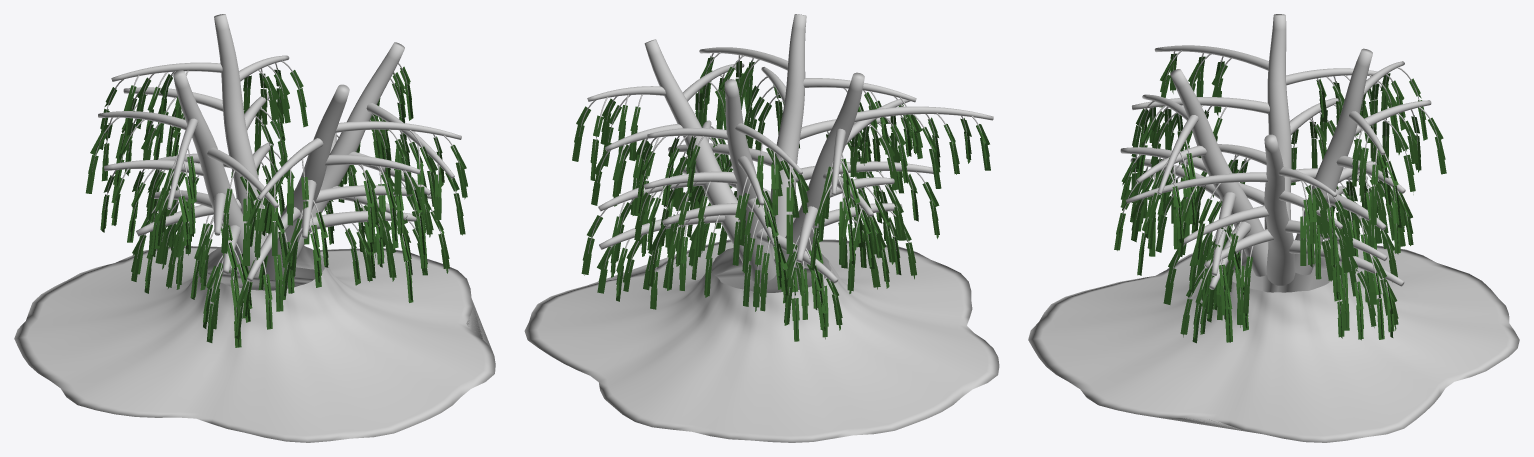
The model's file is montezuma_cypress_old_growth.obj.
The picture shows the model from 3 angles, left to right: view 1: azimuth 30°, elevation 25°; view 2: azimuth 150°, elevation 25°; view 3: azimuth 270°, elevation 25°; orthographic projection.
Parts seen in each view (by area): view 1: Montezuma_Trunk_Canopy, Montezuma_Foliage_Canopy; view 2: Montezuma_Trunk_Canopy, Montezuma_Foliage_Canopy; view 3: Montezuma_Trunk_Canopy, Montezuma_Foliage_Canopy.
Part boxes in pixels (bbox=[...]): Montezuma_Trunk_Canopy: bbox=[14, 14, 495, 442]; Montezuma_Foliage_Canopy: bbox=[85, 66, 467, 347]; Montezuma_Trunk_Canopy: bbox=[524, 14, 999, 442]; Montezuma_Foliage_Canopy: bbox=[572, 56, 990, 341]; Montezuma_Trunk_Canopy: bbox=[1028, 14, 1519, 442]; Montezuma_Foliage_Canopy: bbox=[1114, 53, 1446, 343].
Size of what is drawn, in the model's own units: 25.28 by 16.75 by 25.82.
